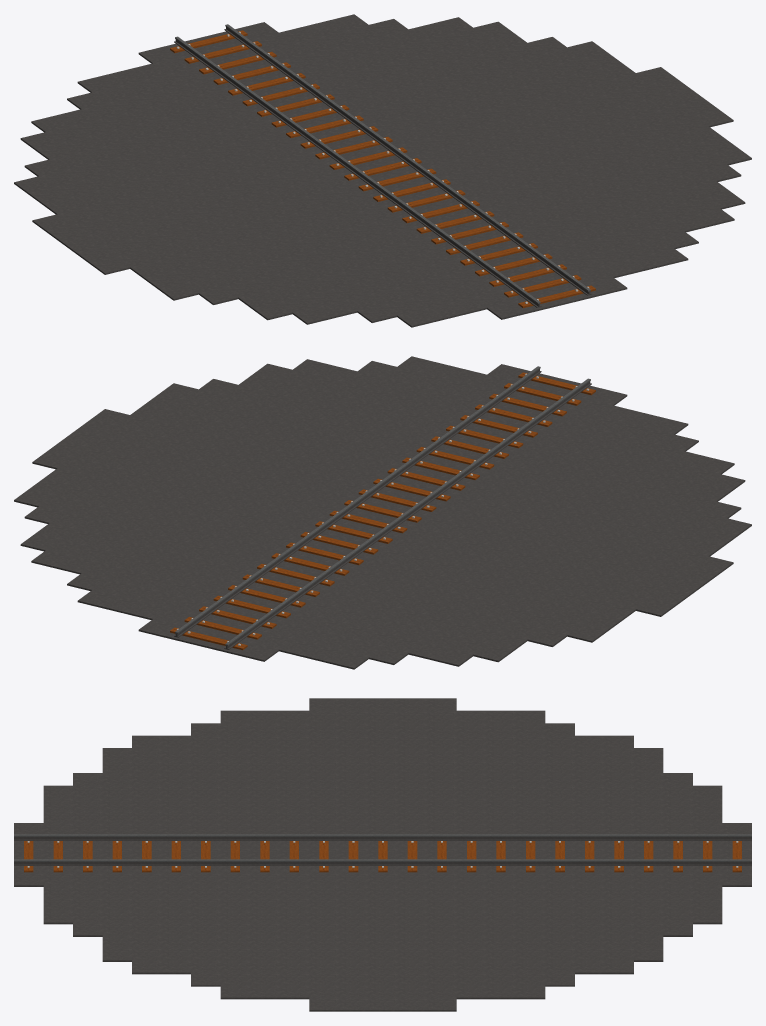
The model's file is rail_turntable.gltf.
3 views of the same model, one above another, from view 1: azimuth 30°, elevation 25°; view 2: azimuth 150°, elevation 25°; view 3: azimuth 270°, elevation 25° (orthographic).
Bounding box in the file's own units: 25 × 0.3125 × 25.
Materials: 4 (3 with a texture image).
